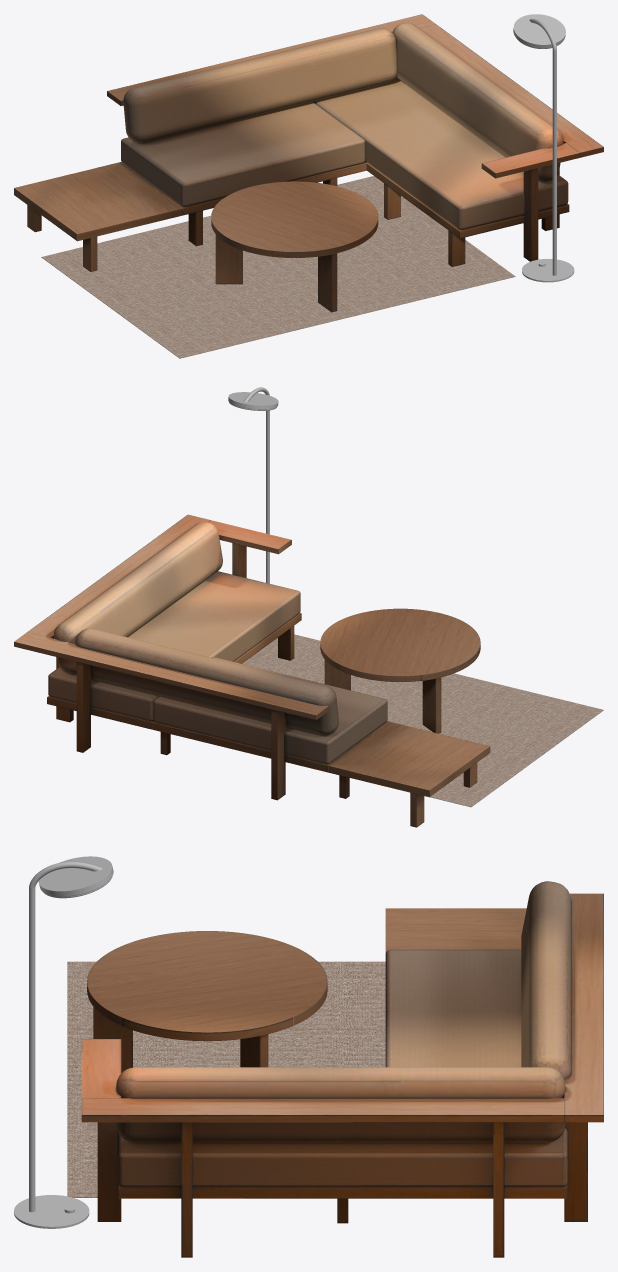
File: Sofa.glb
3 renders of one model, top to bottom at view 1: azimuth 30°, elevation 25°; view 2: azimuth 150°, elevation 25°; view 3: azimuth 270°, elevation 25°, orthographic. The views are drawn at different scales.
Visible parts, largest first — view 1: Sofa.001, Carpet fabric_Black_Base.001, Lamp.001; view 2: Sofa.001, Carpet fabric_Black_Base.001, Lamp.001; view 3: Sofa.001, Carpet fabric_Black_Base.001, Lamp.001.
Boxes of the visible parts, box(x1,y1,x2,y2) form: Sofa.001: box(14, 14, 603, 312); Carpet fabric_Black_Base.001: box(41, 176, 515, 358); Lamp.001: box(513, 14, 574, 282); Sofa.001: box(14, 514, 490, 827); Carpet fabric_Black_Base.001: box(242, 634, 603, 807); Lamp.001: box(228, 387, 278, 583); Sofa.001: box(81, 881, 603, 1257); Carpet fabric_Black_Base.001: box(67, 961, 385, 1197); Lamp.001: box(14, 856, 113, 1228).
Bounding box in the file's own units: 1.13 × 0.6199 × 0.9321.
Materials: 4 (3 with a texture image).
